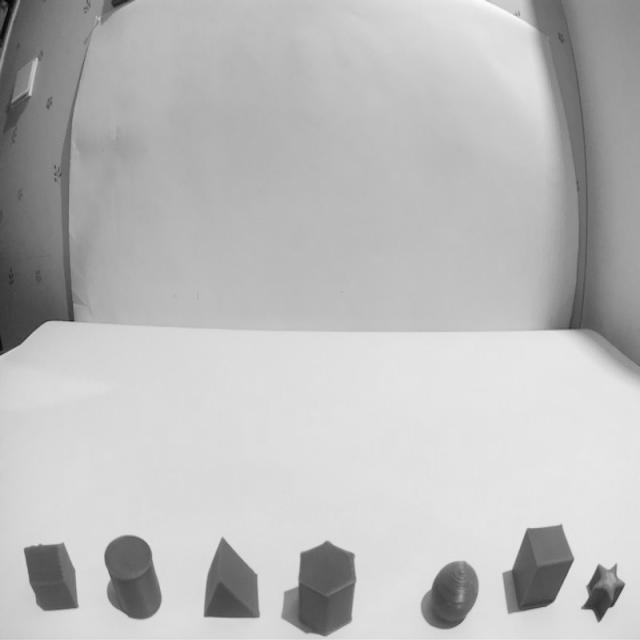ball: (427, 560, 481, 626)
cube: (510, 523, 576, 611)
cylinder: (103, 535, 163, 619)
hexagon: (297, 538, 359, 636)
home: (23, 542, 80, 612)
star: (580, 561, 626, 623)
triangle: (204, 538, 260, 618)
